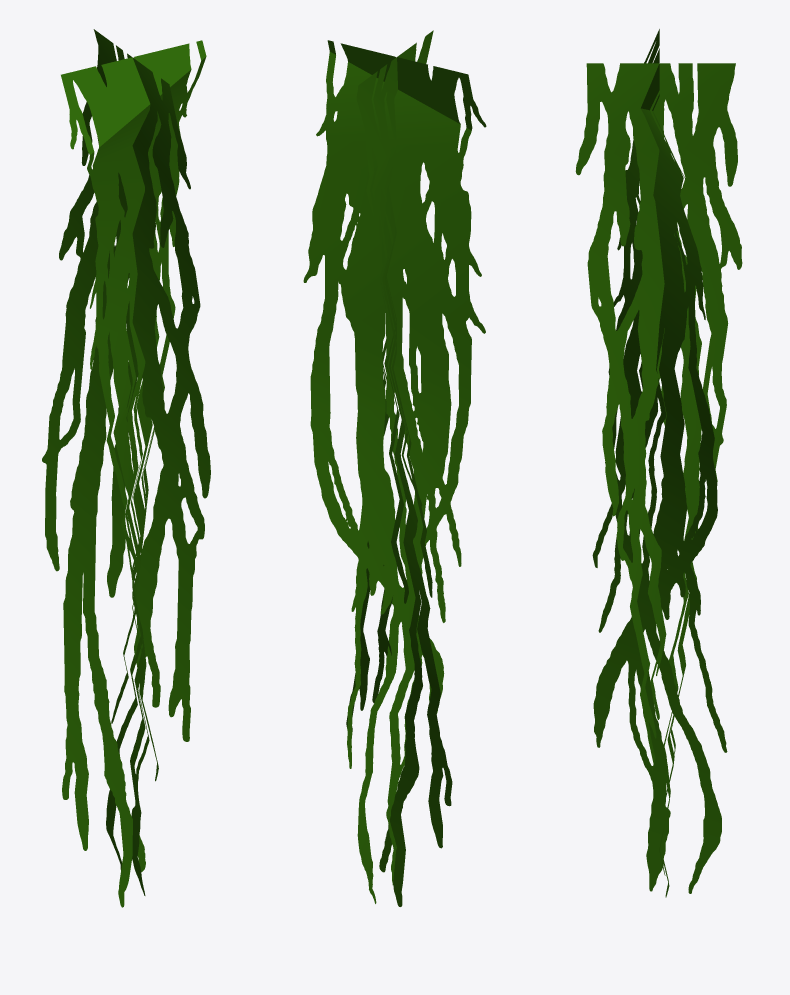
The model's file is Liana01.fbx.
3 renders of one model, left to right at view 1: azimuth 30°, elevation 25°; view 2: azimuth 150°, elevation 25°; view 3: azimuth 270°, elevation 25°, orthographic.
Parts seen in each view (by area): view 1: Liana01; view 2: Liana01; view 3: Liana01.
Part boxes in pixels (x1,y1,x2,y2): Liana01: (42, 29, 210, 907); Liana01: (303, 30, 486, 906); Liana01: (575, 29, 742, 897).
Size of the model in its own units: 72.8 by 300 by 72.8.
